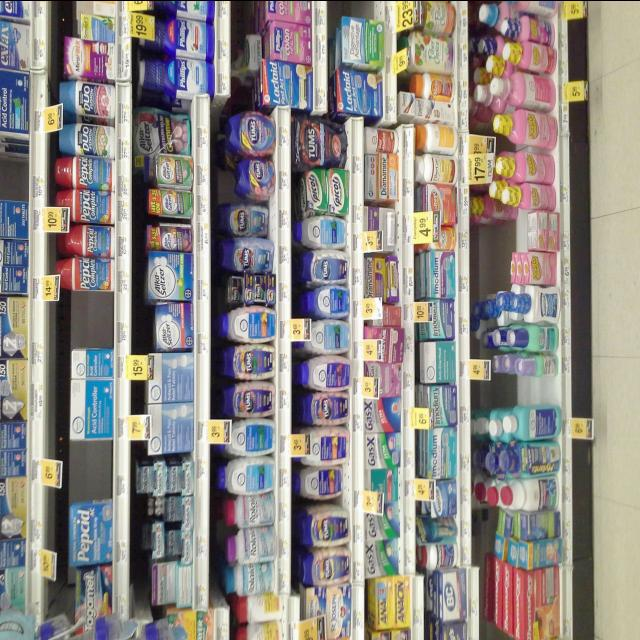empty_space: (55, 288, 117, 346), (58, 437, 114, 499), (472, 222, 512, 291), (490, 374, 558, 402)
